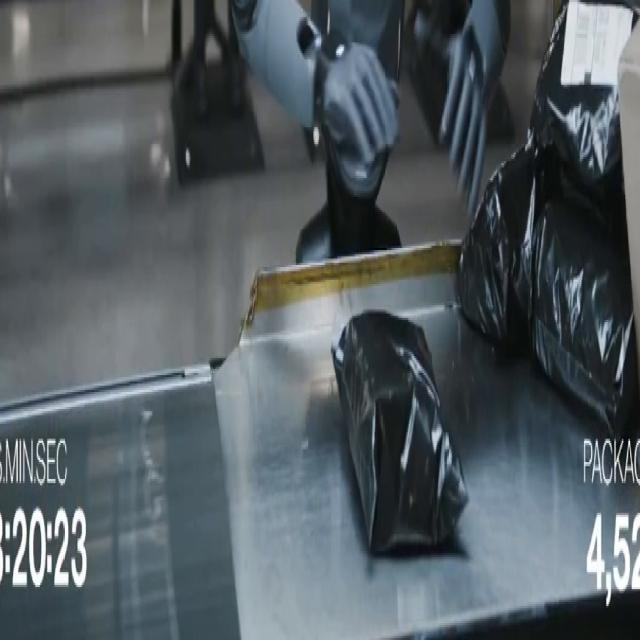package: (458, 0, 638, 436), (333, 312, 468, 555), (532, 202, 638, 436), (530, 0, 635, 235), (458, 138, 554, 353), (619, 28, 639, 317)
